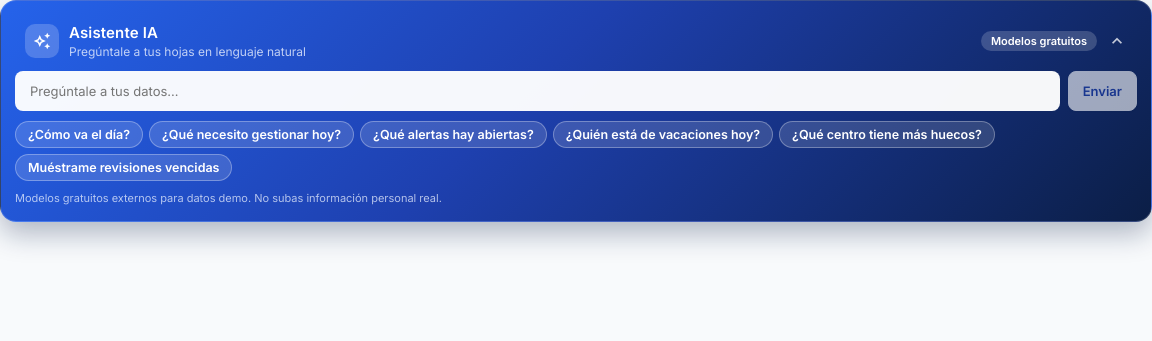
Test: CopilotPanel › muestra el proveedor y el modelo usado tras responder
The width and height of the screenshot is (1152, 341).
Click the button "¿Quién está de vacaciones hoy?": [663, 134] box [553, 121, 773, 148]
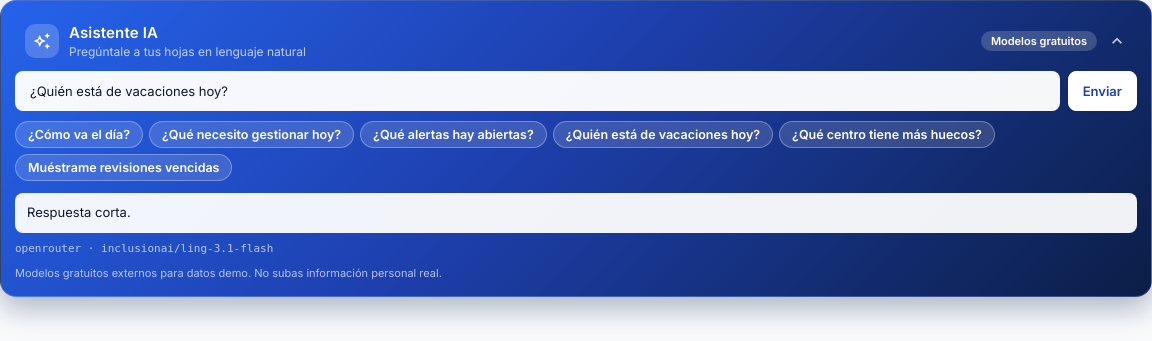
Expected: the text "openrouter · inclusionai/ling-3.1-flash" is shown, [15, 242, 273, 254]
